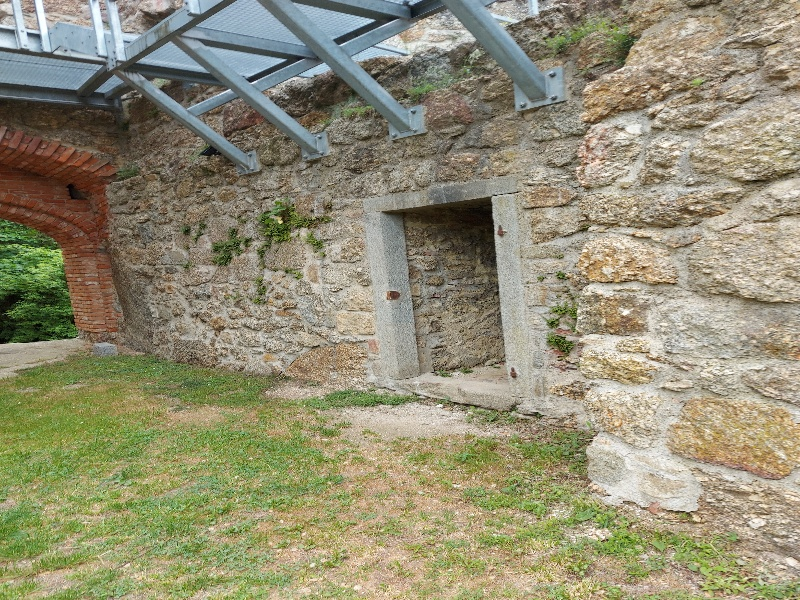door1: (344, 181, 562, 430)
